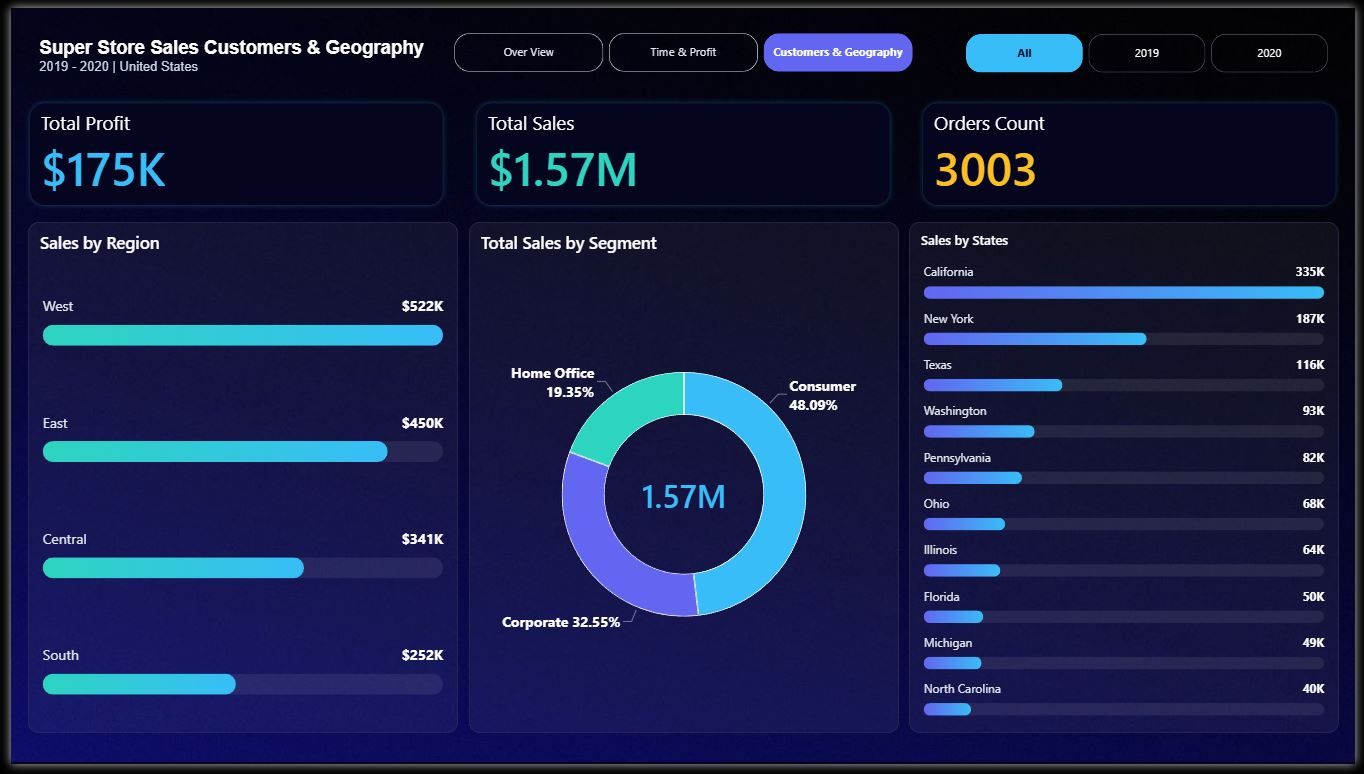

The page's visual inventory and layout, read from the dashboard file:
{"tool":"powerbi","page":{"name":"Customers & Geography","canvas":[1920,1080],"ordinal":2},"visuals":[{"type":"pageNavigator","box":[627.1,30,667.1,67.1],"z":1000},{"type":"bookmarkNavigator","box":[1364.3,37.1,517.1,55.7],"z":2000},{"type":"cardVisual","fields":{"Data":["SuperStore_Sales_Dataset.Total Profit"]},"box":[0,112.9,644.3,192.9],"z":3000},{"type":"cardVisual","fields":{"Data":["SuperStore_Sales_Dataset.Total Sales"]},"box":[637.9,112.9,644.3,192.9],"z":4000},{"type":"cardVisual","fields":{"Data":["SuperStore_Sales_Dataset.Orders Count"]},"box":[1275.6,112.9,644.3,192.9],"z":5000},{"type":"textbox","box":[24.3,30,584.3,82.9],"z":6000},{"type":"deneb7E15AEF80B9E4D4F8E12924291ECE89A","title":"Sales by Region","fields":{"dataset":["SuperStore_Sales_Dataset.Total Sales","SuperStore_Sales_Dataset.Region"]},"box":[24.3,305.7,614.3,730],"z":7000},{"type":"donutChart","fields":{"Category":["SuperStore_Sales_Dataset.Segment"],"Y":["SuperStore_Sales_Dataset.Total Sales"]},"box":[654.3,305.7,614.3,730],"z":8000},{"type":"deneb7E15AEF80B9E4D4F8E12924291ECE89A","title":"Sales by Cub Category","fields":{"dataset":["SuperStore_Sales_Dataset.Total Sales","SuperStore_Sales_Dataset.State"]},"box":[1282.9,305.7,614.3,730],"z":9000}]}

Visuals, with their boxes in screenshot pixels (x1, y1, x2, y2), scaled from the page's 1920x1080 canvas onto the 1364x774 screenshot:
pageNavigator: left=446, top=22, right=919, bottom=70
bookmarkNavigator: left=969, top=27, right=1337, bottom=67
cardVisual - SuperStore_Sales_Dataset.Total Profit: left=0, top=81, right=458, bottom=219
cardVisual - SuperStore_Sales_Dataset.Total Sales: left=453, top=81, right=911, bottom=219
cardVisual - SuperStore_Sales_Dataset.Orders Count: left=906, top=81, right=1363, bottom=219
textbox: left=17, top=22, right=432, bottom=81
"Sales by Region" deneb7E15AEF80B9E4D4F8E12924291ECE89A: left=17, top=219, right=454, bottom=742
donutChart - SuperStore_Sales_Dataset.Segment x SuperStore_Sales_Dataset.Total Sales: left=465, top=219, right=901, bottom=742
"Sales by Cub Category" deneb7E15AEF80B9E4D4F8E12924291ECE89A: left=911, top=219, right=1348, bottom=742
